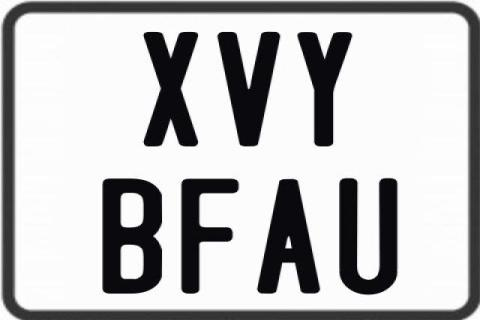A: (257, 178, 321, 292)
B: (102, 178, 162, 296)
F: (178, 177, 240, 293)
U: (336, 178, 398, 296)
V: (215, 31, 278, 149)
X: (142, 32, 201, 150)
Y: (296, 32, 355, 146)
